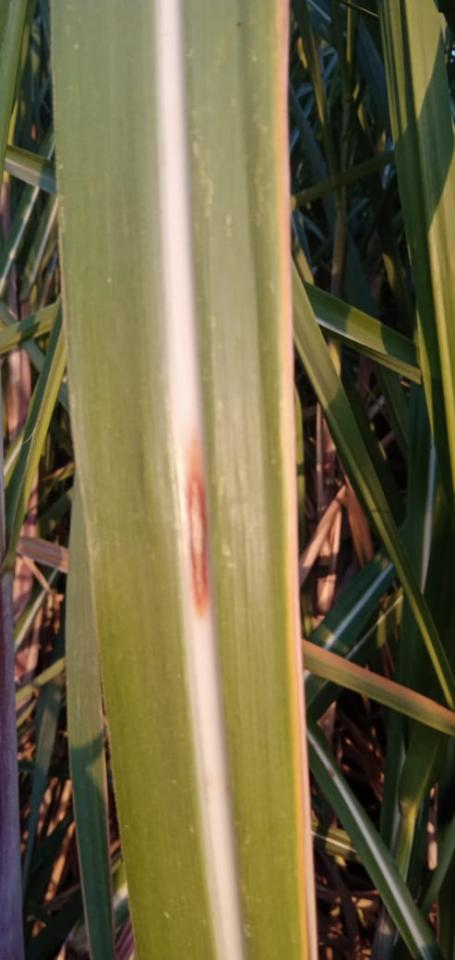RedRot: (184, 429, 210, 618)
